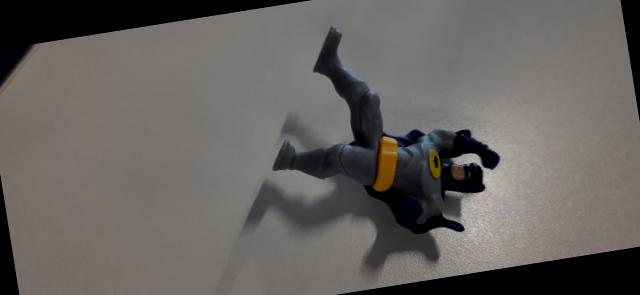Batman: (249, 0, 511, 261)
